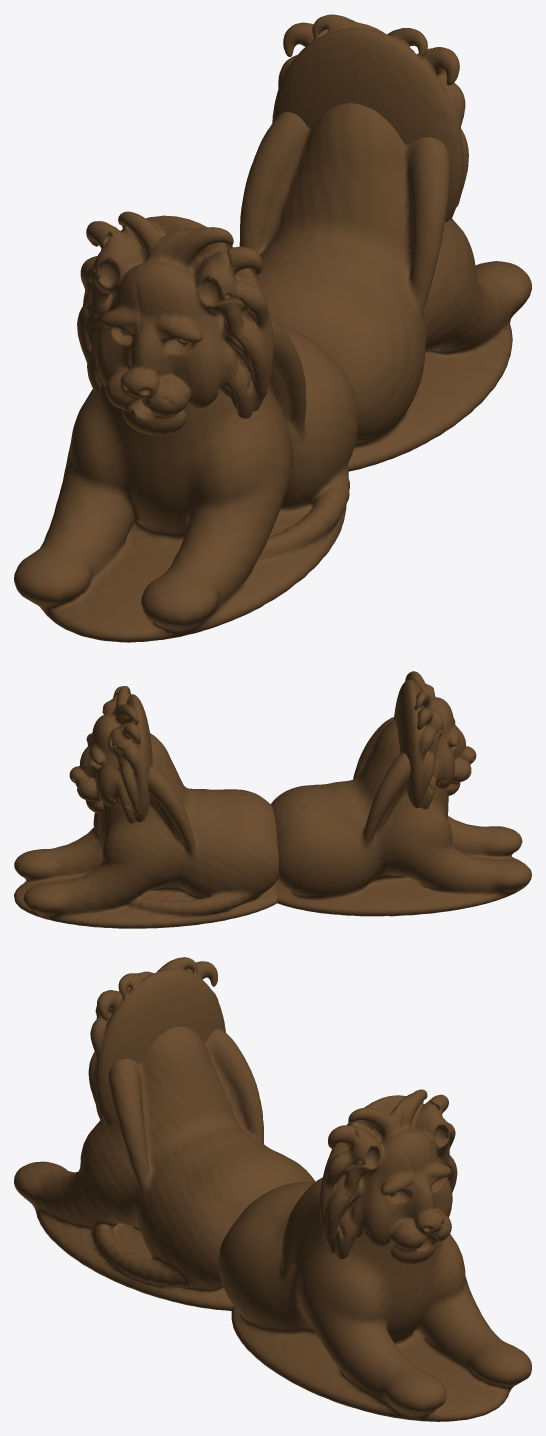
Rendered from sculpture.obj.
The picture shows the model from 3 angles, top to bottom: view 1: azimuth 30°, elevation 25°; view 2: azimuth 150°, elevation 25°; view 3: azimuth 270°, elevation 25°; orthographic projection. The views are drawn at different scales.
Parts seen in each view (by area): view 1: reclining_lions; view 2: reclining_lions; view 3: reclining_lions.
Boxes of the visible parts, x1,y1,x2,y2 form: reclining_lions: (14, 14, 531, 642); reclining_lions: (14, 671, 531, 928); reclining_lions: (14, 957, 531, 1421).
Bounding box in the file's own units: 50.73 × 25.21 × 42.13.
